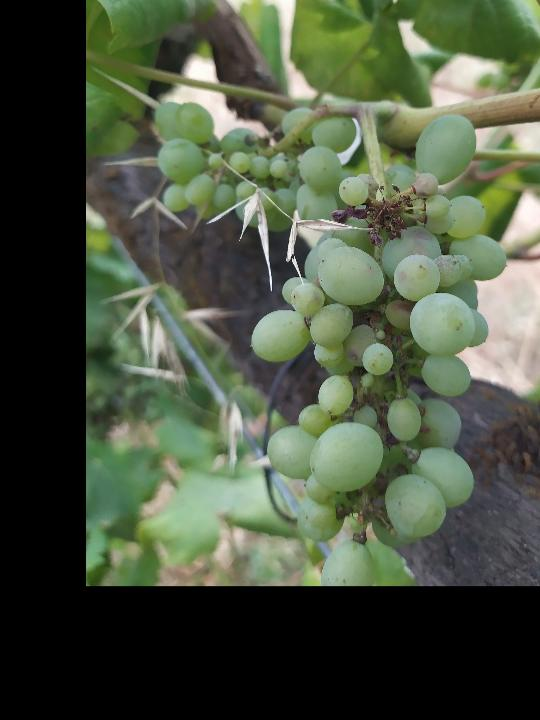grape: (249, 110, 511, 586)
